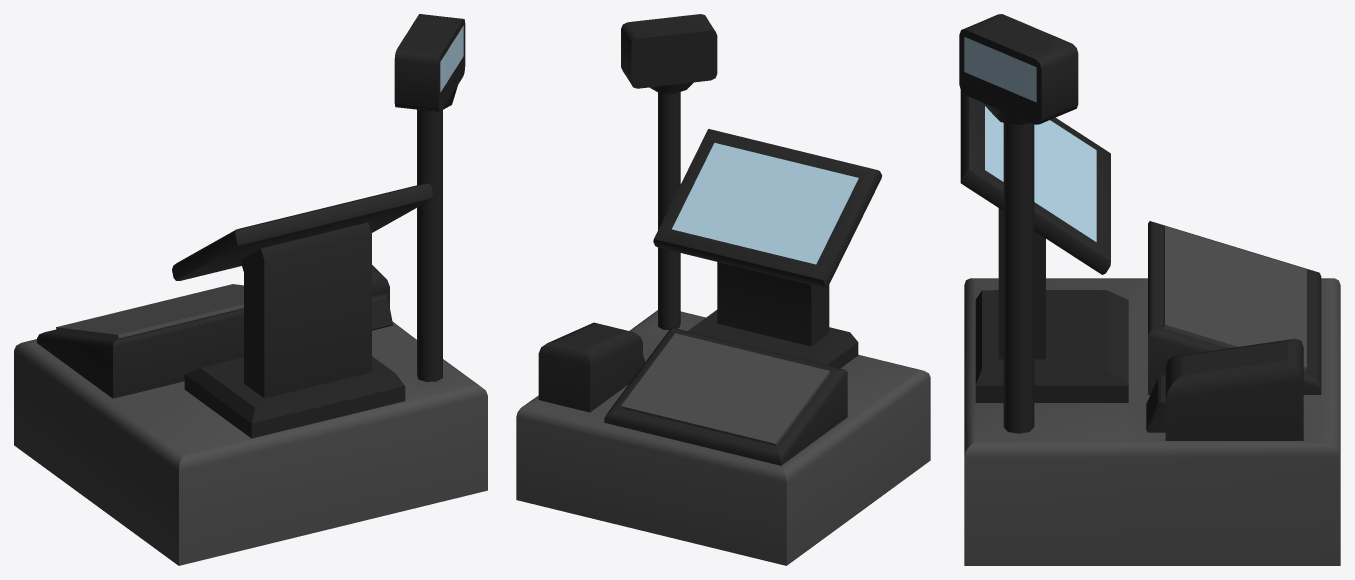
File: CashRegister_Whole.fbx
3 renders of one model, left to right at view 1: azimuth 30°, elevation 25°; view 2: azimuth 150°, elevation 25°; view 3: azimuth 270°, elevation 25°, orthographic. The views are drawn at different scales.
Visible parts, largest first — view 1: CashRegister_Whole; view 2: CashRegister_Whole; view 3: CashRegister_Whole.
Boxes of the visible parts, x1=… form: CashRegister_Whole: x1=14, y1=14, x2=487, y2=565; CashRegister_Whole: x1=516, y1=14, x2=930, y2=565; CashRegister_Whole: x1=959, y1=14, x2=1340, y2=565.
Bounding box in the file's own units: 71.65 × 95.56 × 64.69.
